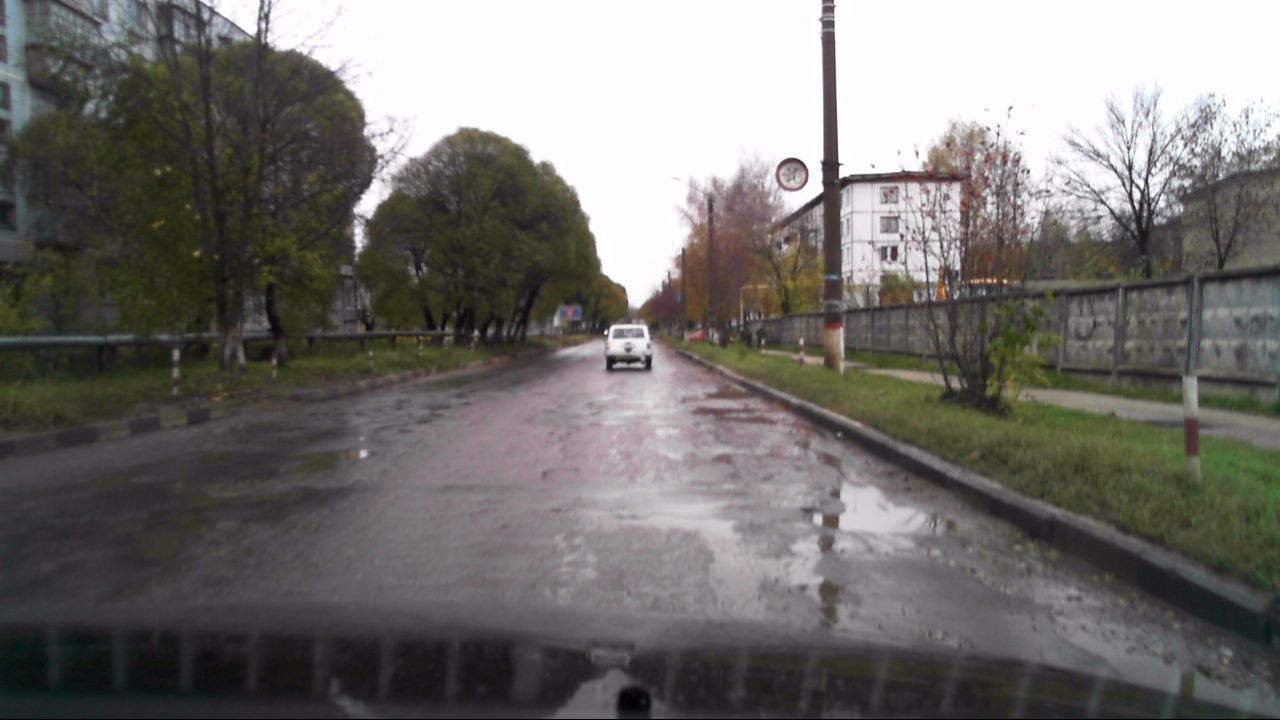speed_warning_40: (775, 156, 809, 192)
